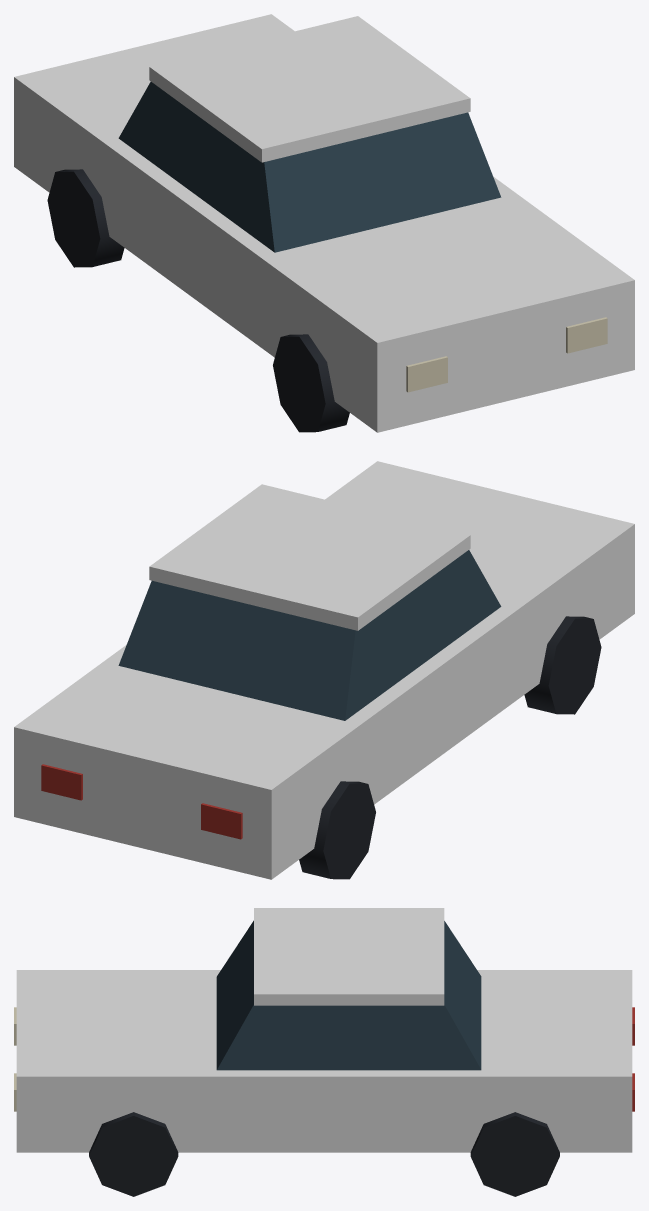
The model's file is veh_car_3.0e68a6bd52d2.glb.
3 renders of one model, top to bottom at view 1: azimuth 30°, elevation 25°; view 2: azimuth 150°, elevation 25°; view 3: azimuth 270°, elevation 25°, orthographic. The views are drawn at different scales.
Visible parts, largest first — view 1: LOD0; view 2: LOD0; view 3: LOD0.
Part boxes in pixels (<box>): LOD0: <box>14,14,634,432</box>; LOD0: <box>14,461,634,879</box>; LOD0: <box>14,908,634,1196</box>.
Size of what is drawn, in the model's own units: 1.93 by 1.49 by 4.44.
